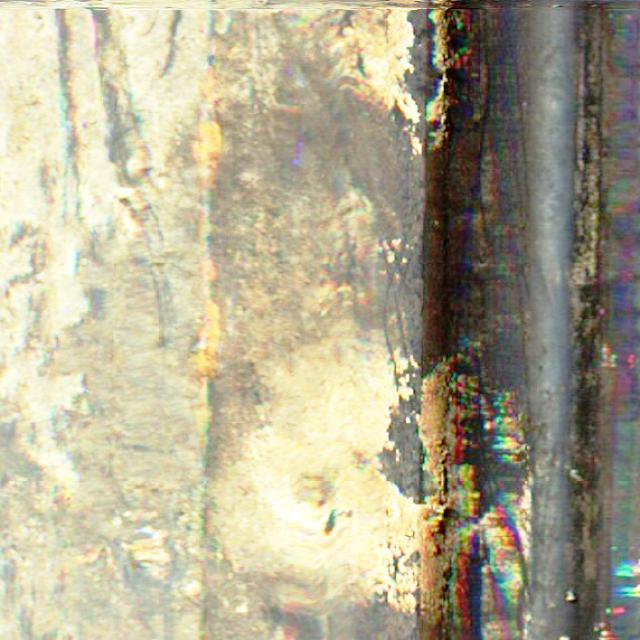Corrosion: (197, 300, 220, 380), (193, 120, 220, 188), (199, 65, 223, 108), (200, 262, 217, 281)
